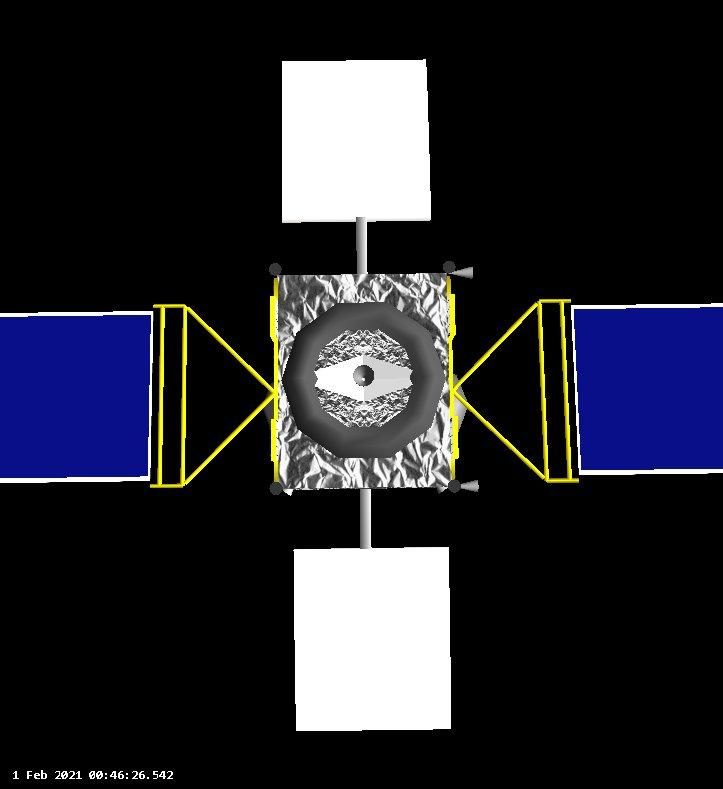antenna: (289, 546, 455, 739), (277, 53, 434, 227)
body: (267, 268, 461, 490)
solar: (0, 297, 196, 501), (521, 297, 723, 486)
thruster: (352, 365, 375, 387), (447, 266, 476, 280), (461, 479, 480, 493), (447, 478, 462, 494), (269, 481, 283, 497), (268, 262, 282, 276), (442, 261, 456, 273), (281, 485, 294, 497), (435, 484, 449, 494)
